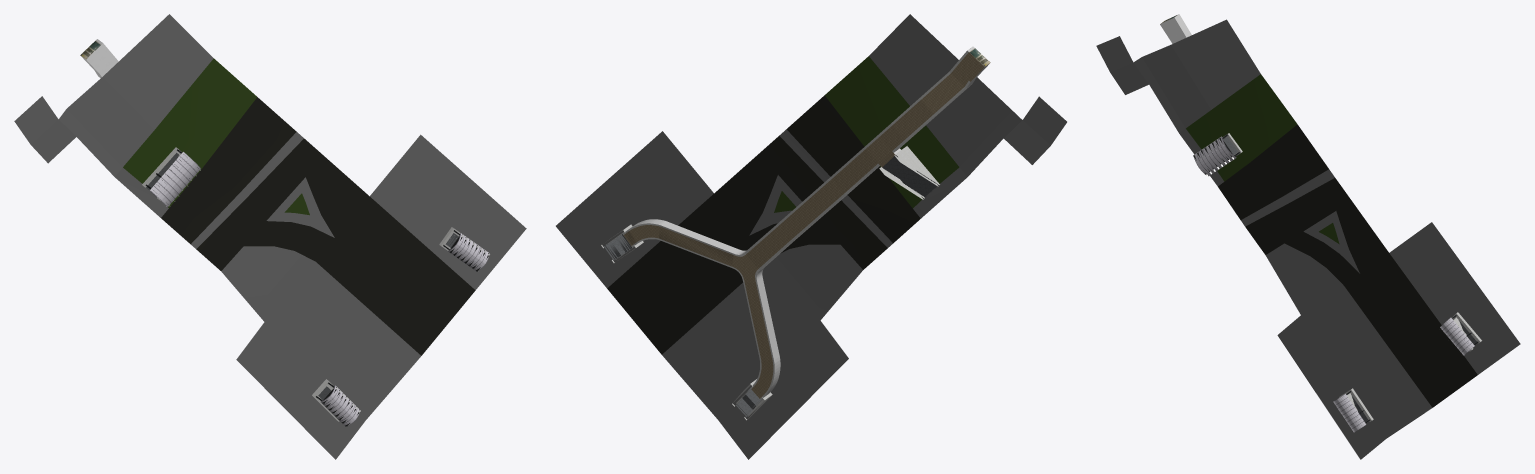
Rendered from Rannamae_tee_1_2.obj.
3 views of the same model, side by side, from view 1: azimuth 30°, elevation 25°; view 2: azimuth 150°, elevation 25°; view 3: azimuth 330°, elevation 25° (orthographic). The views are drawn at different scales.
Parts seen in each view (by area): view 1: maapind, Rannamae_tee_1_2; view 2: maapind, Rannamae_tee_1_2; view 3: maapind, Rannamae_tee_1_2.
Boxes of the visible parts, x1=… form: maapind: x1=14, y1=14, x2=526, y2=459; Rannamae_tee_1_2: x1=80, y1=39, x2=489, y2=426; maapind: x1=556, y1=14, x2=1066, y2=459; Rannamae_tee_1_2: x1=601, y1=46, x2=990, y2=420; maapind: x1=1096, y1=19, x2=1520, y2=459; Rannamae_tee_1_2: x1=1160, y1=14, x2=1481, y2=432.
Size of the model in its own units: 119 by 108 by 9.7.
